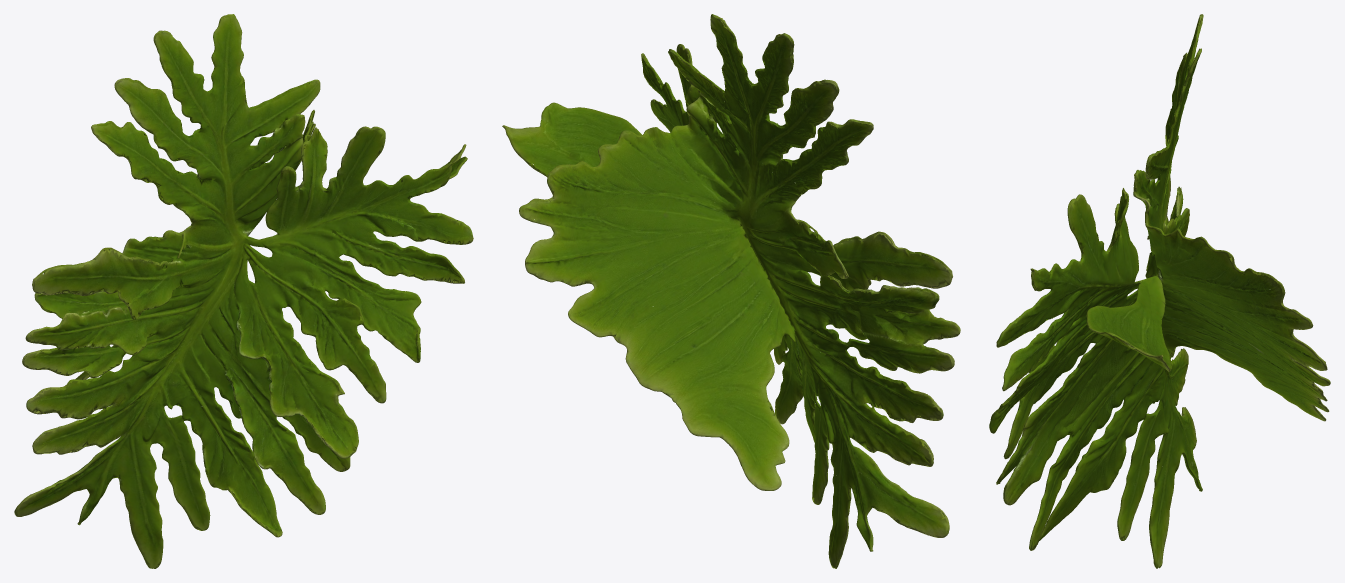
Rendered from leaf+3d+model.glb.
3 views of the same model, side by side, from view 1: azimuth 30°, elevation 25°; view 2: azimuth 150°, elevation 25°; view 3: azimuth 270°, elevation 25° (orthographic). The views are drawn at different scales.
Visible parts, largest first — view 1: tripo_node_3e178dfa-6252-478b-9432-036c8d3dca11; view 2: tripo_node_3e178dfa-6252-478b-9432-036c8d3dca11; view 3: tripo_node_3e178dfa-6252-478b-9432-036c8d3dca11.
Boxes of the visible parts, <box> form: tripo_node_3e178dfa-6252-478b-9432-036c8d3dca11: <box>14,14,473,568</box>; tripo_node_3e178dfa-6252-478b-9432-036c8d3dca11: <box>502,14,960,568</box>; tripo_node_3e178dfa-6252-478b-9432-036c8d3dca11: <box>989,14,1330,568</box>.
Size of the model in its own units: 0.8864 by 0.9997 by 0.5443.
1 material, 1 textured.
